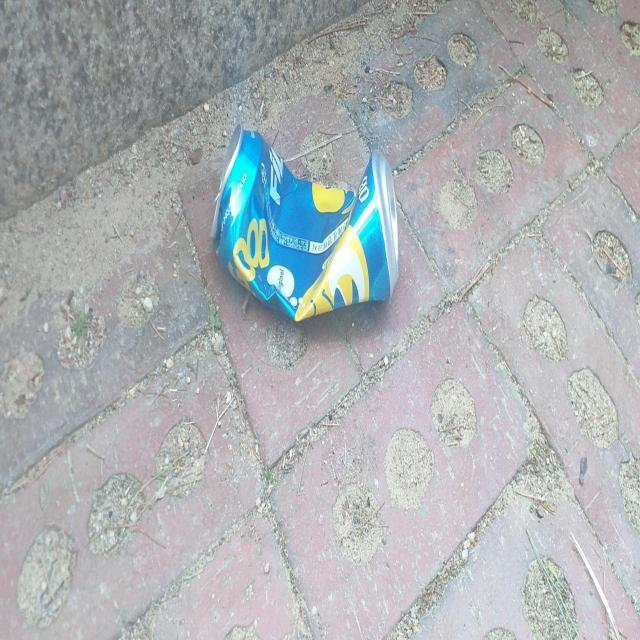can: (211, 124, 399, 321)
